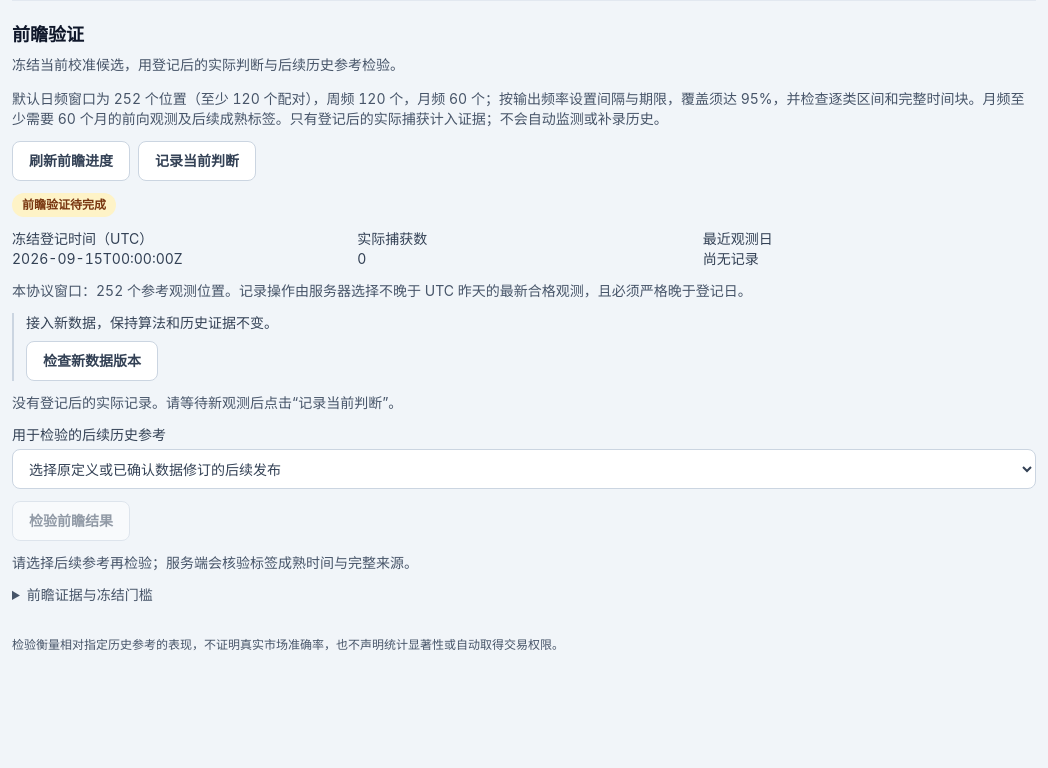
前瞻验证 › capture explains no_post_registration_observation in Chinese with next action
Expected: the button "刷新前瞻进度" is enabled, [12,141,130,181]
Click the button "记录当前判断": click(197, 161) [138,141,256,181]
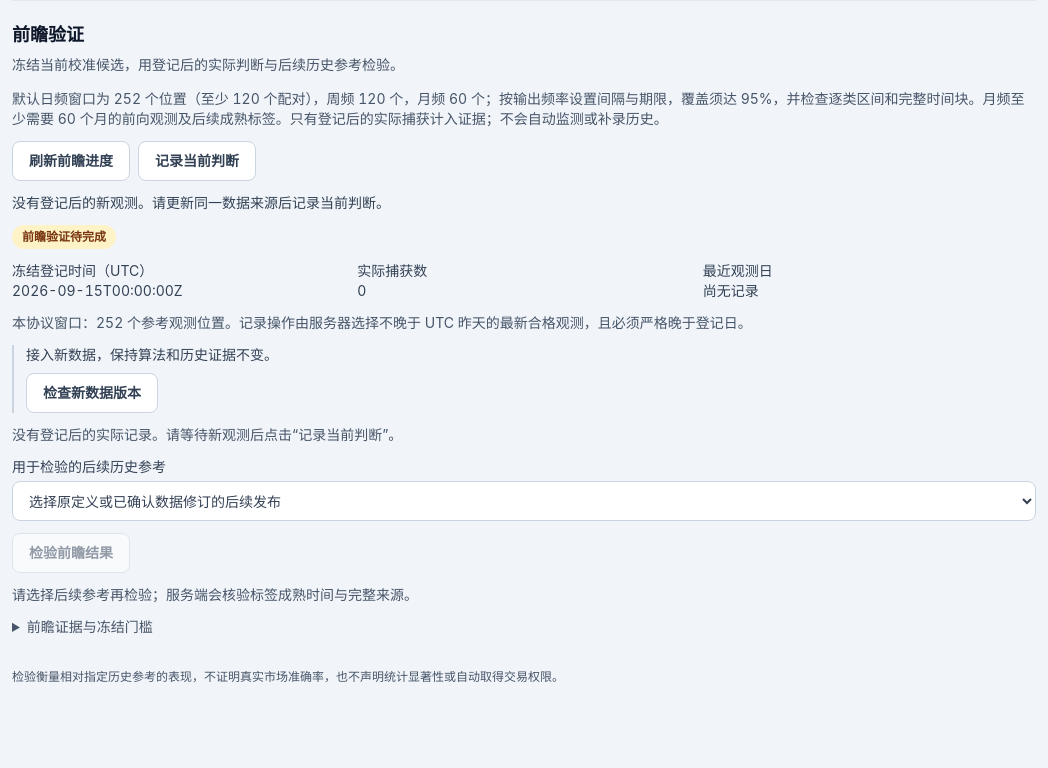
Expected: the text "没有登记后的新观测。请更新同一数据来源后记录当前判断。" is shown, [12,194,390,211]
